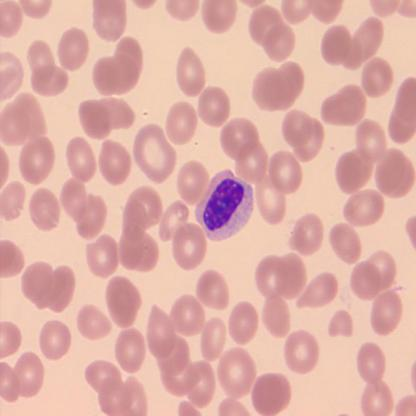Metamyelocyte: (193, 165, 256, 244)
